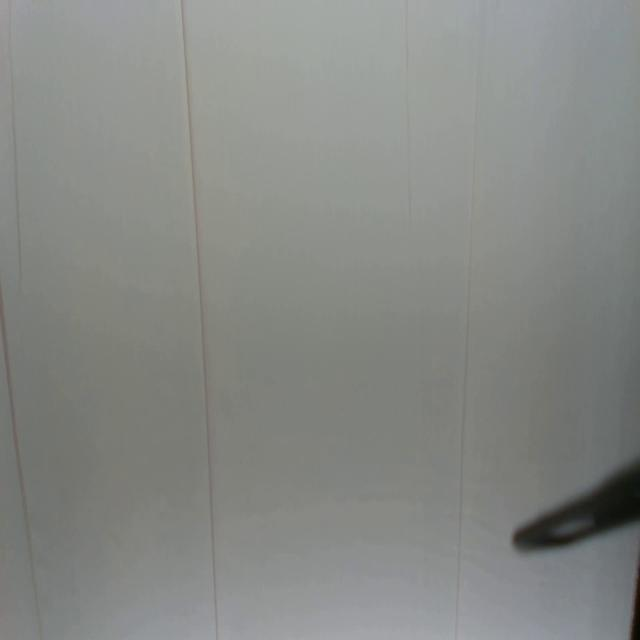crease: (181, 0, 218, 639), (454, 8, 486, 640), (0, 287, 44, 640), (8, 5, 24, 292), (403, 5, 414, 234)
